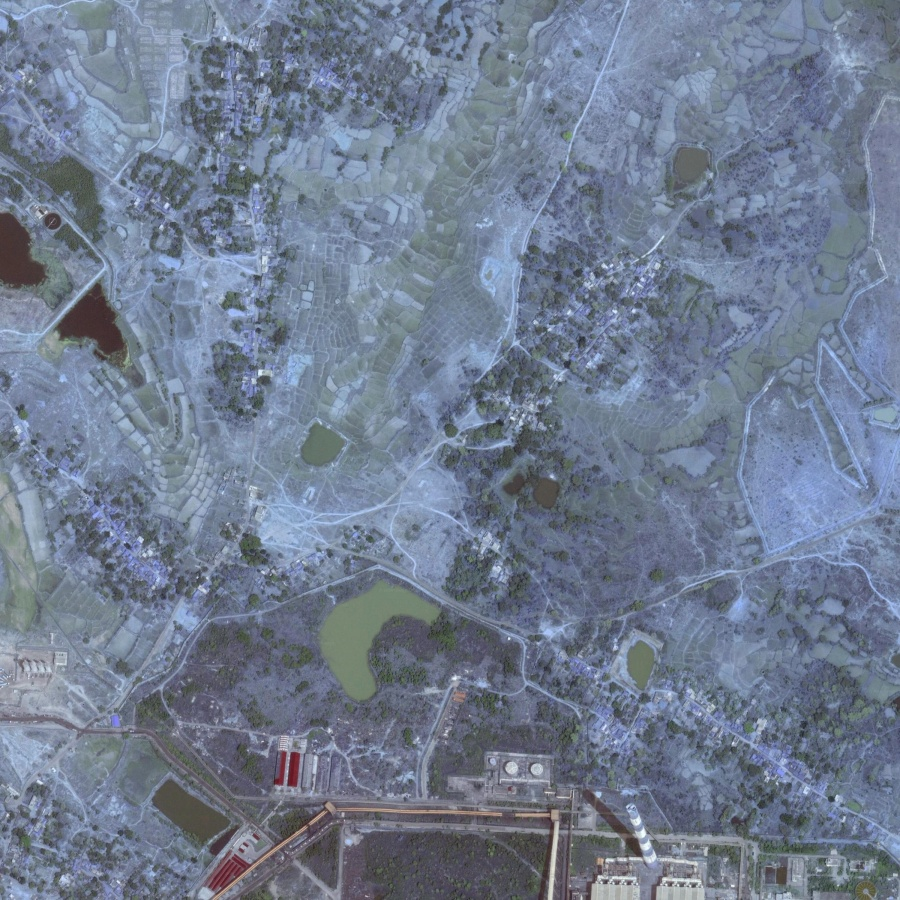PowerPlant: (557, 764, 711, 897)
